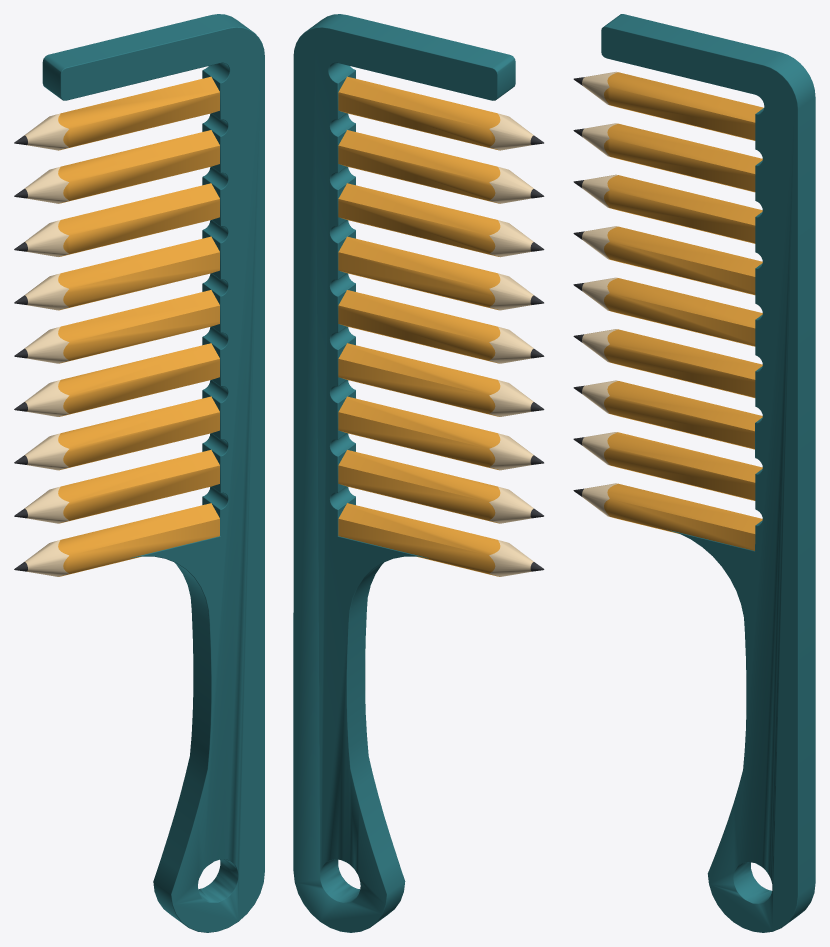
File: comb.glb
The picture shows the model from 3 angles, left to right: view 1: azimuth 30°, elevation 25°; view 2: azimuth 150°, elevation 25°; view 3: azimuth 330°, elevation 25°; orthographic projection. The views are drawn at different scales.
Parts seen in each view (by area): view 1: body, pencil, lead; view 2: body, pencil, lead; view 3: body, pencil.
Boxes of the visible parts, x1,y1,x2,y2 form: body: (42, 14, 264, 932); pencil: (24, 76, 219, 576); lead: (14, 135, 27, 571); body: (293, 14, 515, 932); pencil: (338, 76, 533, 576); lead: (530, 135, 544, 571); body: (601, 14, 815, 932); pencil: (582, 71, 763, 550).
Bounding box in the file's own units: 0.0675 × 0.24 × 0.0088.
